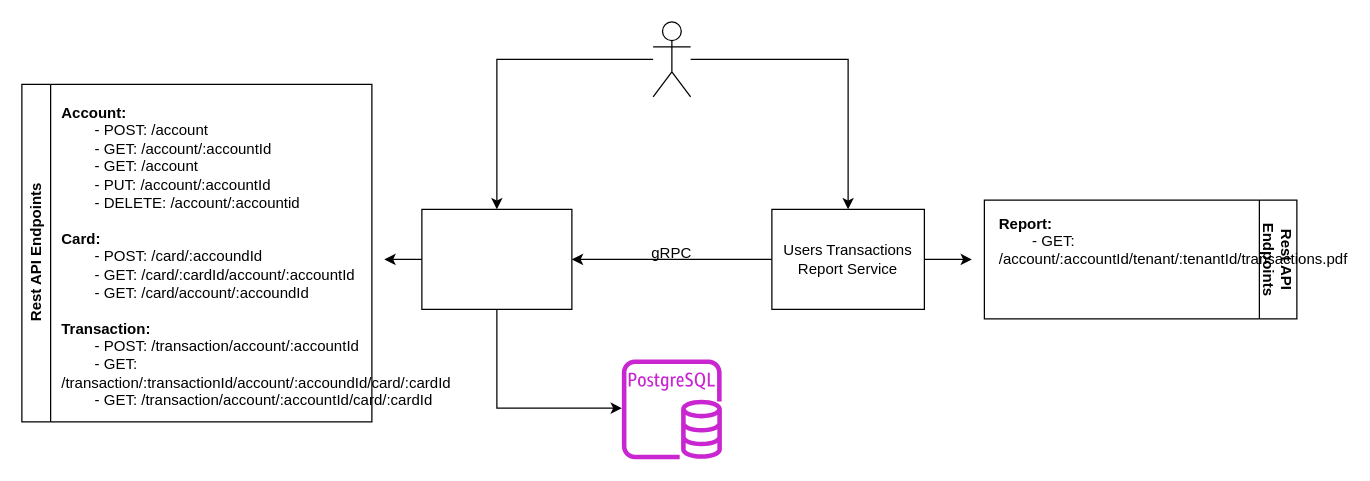
Some shapes in this 1370 by 481 pixel diagram are drawn without their labels. Here are the shapes that lost their labels. From the top down, the centre of each, then its label:
(x=671, y=59): User
(x=496, y=258): Users Transactions Service
